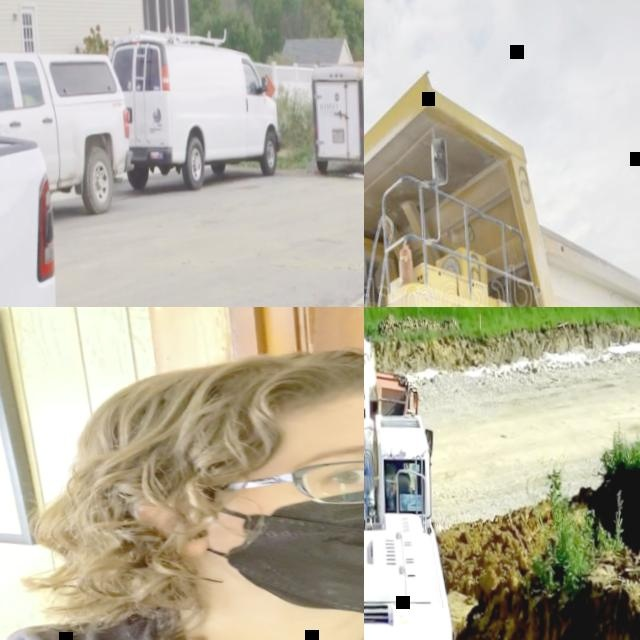Mask: (193, 476, 364, 624)
NO-Hardhat: (87, 345, 364, 456)
Person: (0, 339, 364, 640)
machinery: (364, 53, 640, 307), (364, 307, 456, 640)
vehicle: (109, 27, 282, 194), (0, 44, 136, 219), (0, 115, 76, 307)
